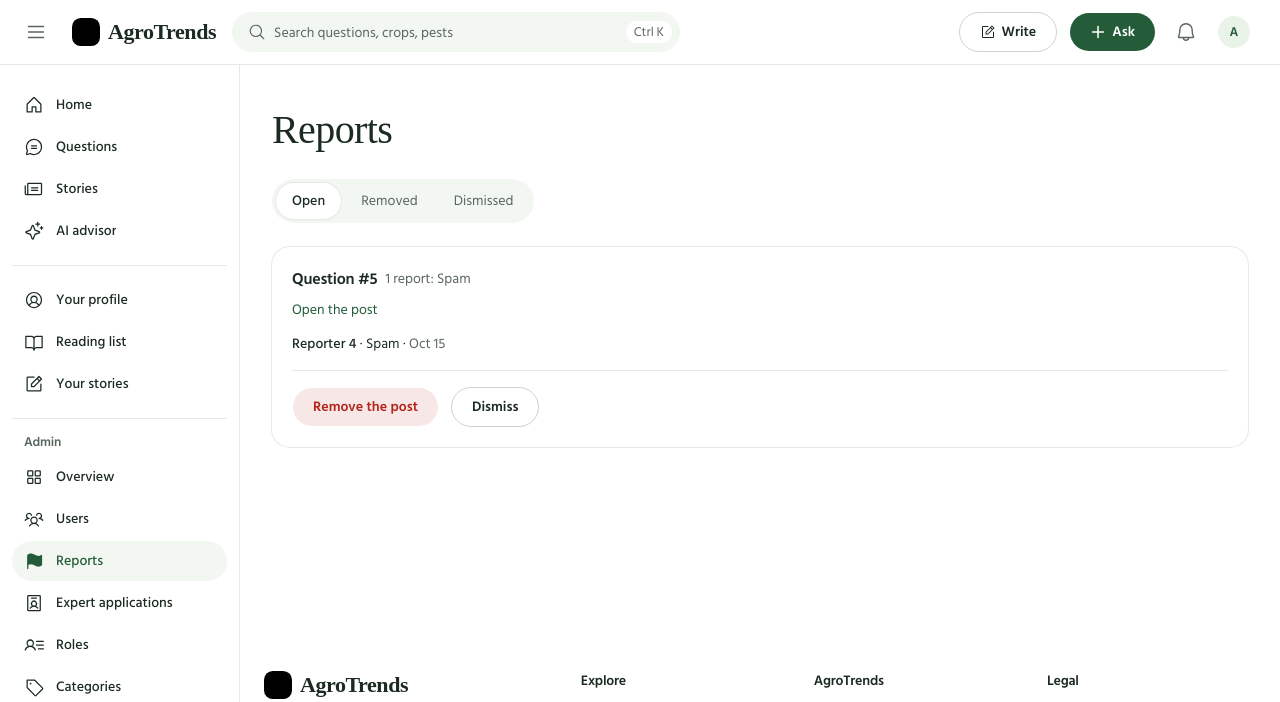
Test: another moderator acting first (409) shows the message
This screenshot has width=1280, height=702.
Click the button "Dismiss" at [495, 407], box [451,387,540,427]
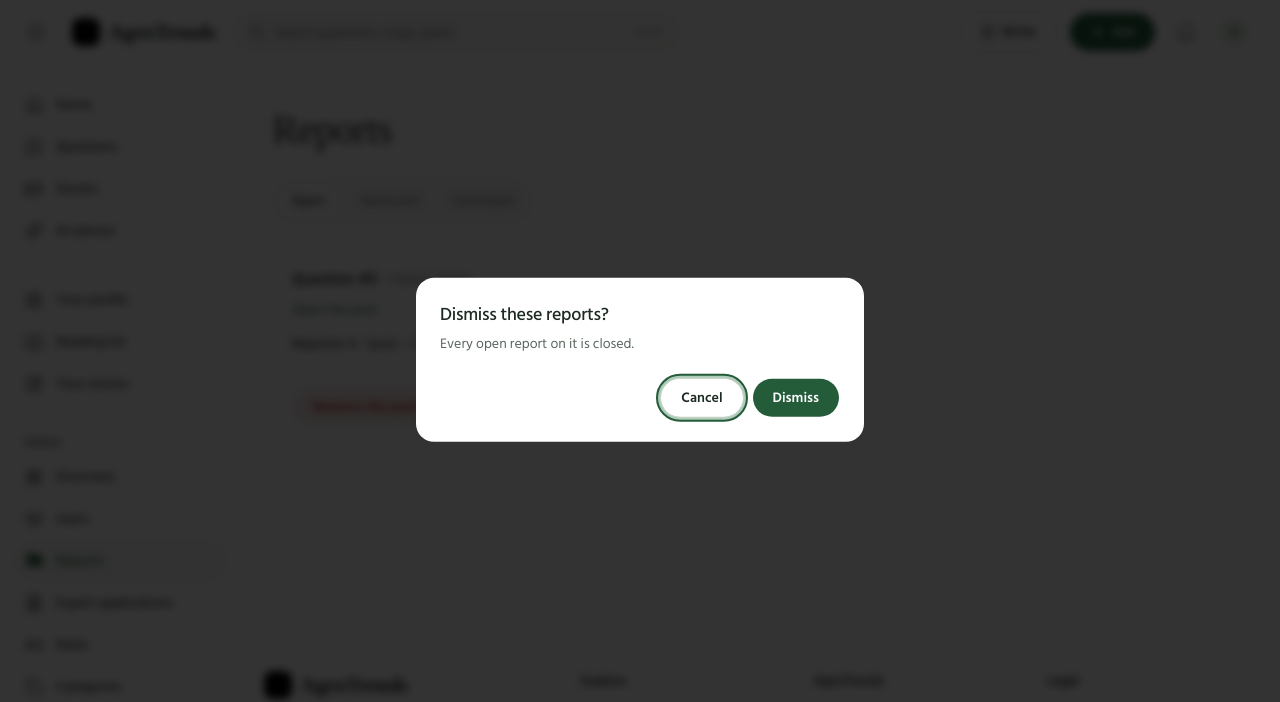
Click the button "Dismiss" at [796, 398], box [752,378,840,418]
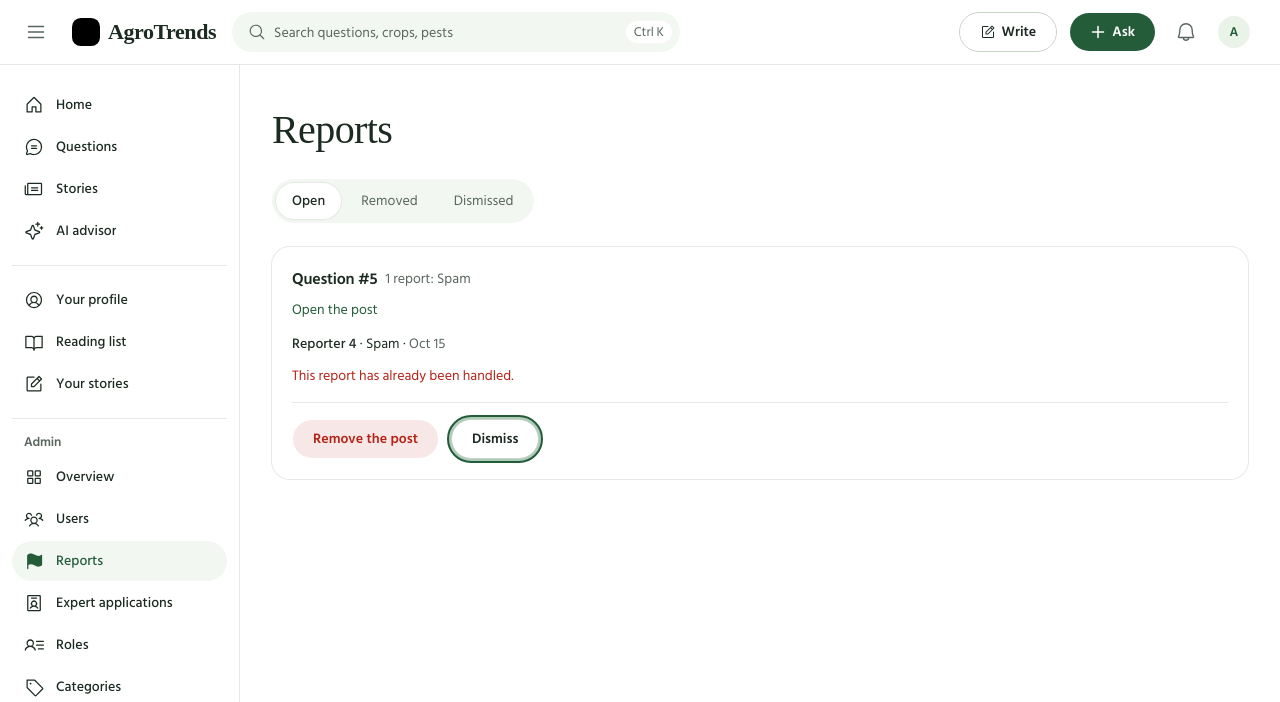
Expected: the message reads "This report has already been handled.", [292,364,514,387]
